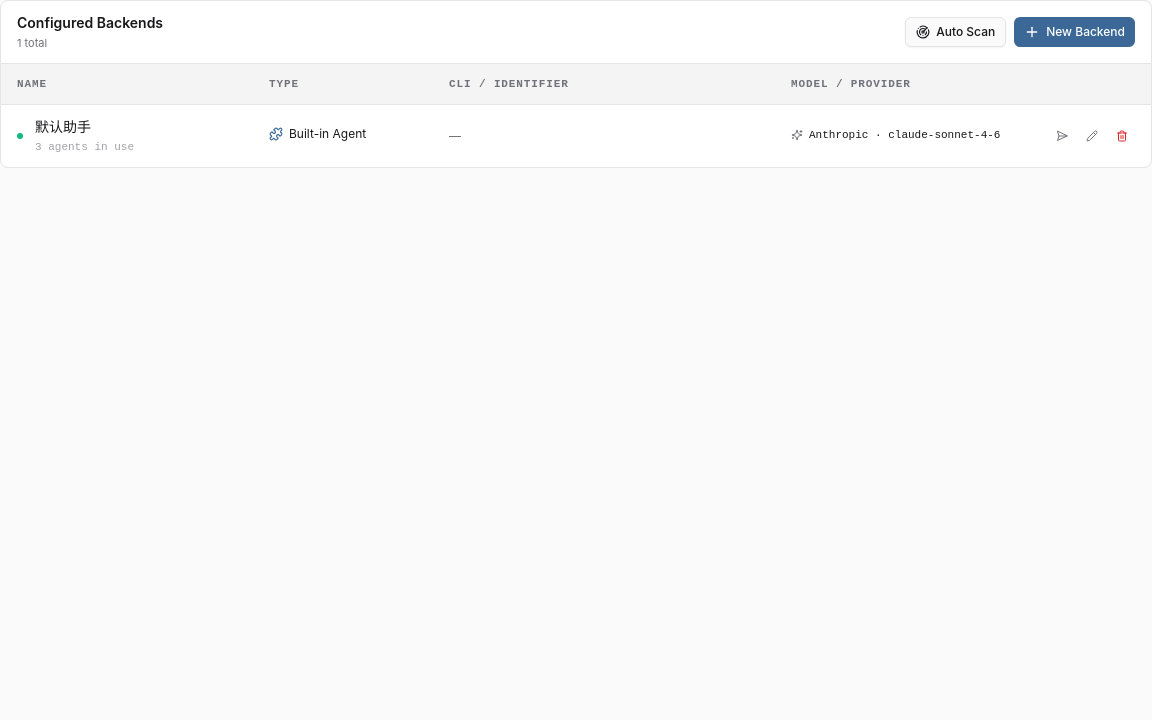
AgentBackendsPanel › 新建保存失败时错误显示在弹窗内，而不是表格提示区
Expected: the table named "Agent backend list" is shown, [1,64,1151,166]
Click the button "New Backend".
click(1075, 32)  # box [1014,17,1135,47]
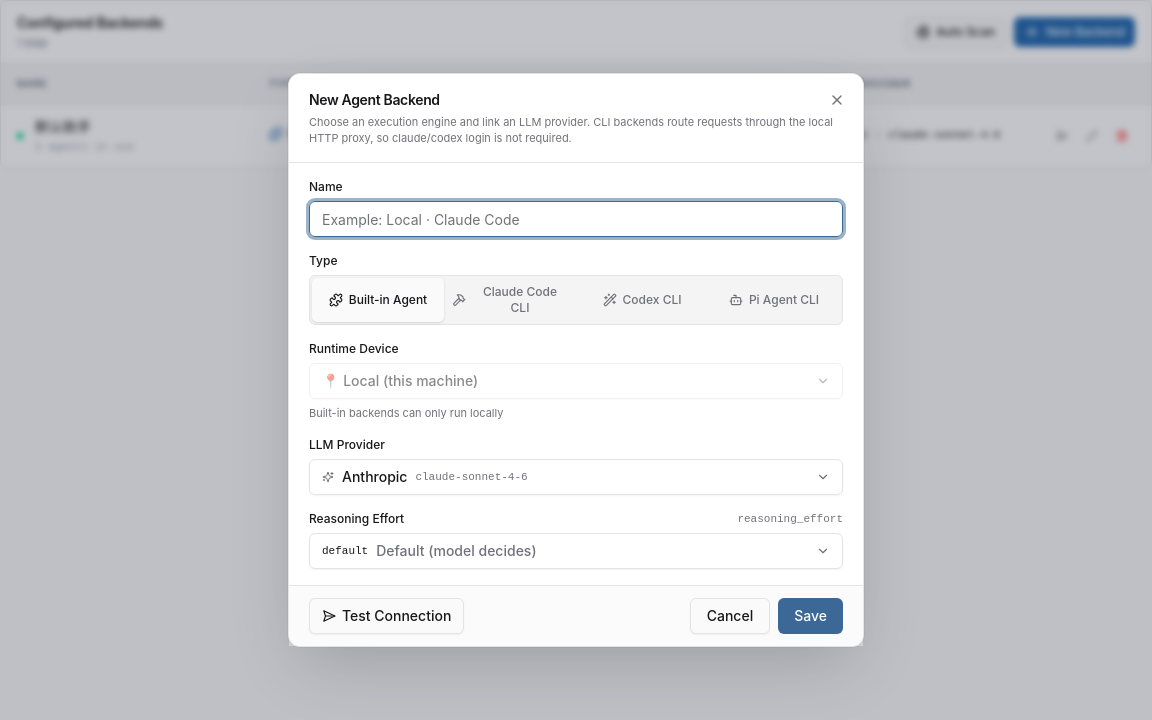
Type "Duplicate backend" into the field with placeholder "Example: Local · Claude Code".
click(576, 219); type("Duplicate backend")  # box [309,201,843,237]
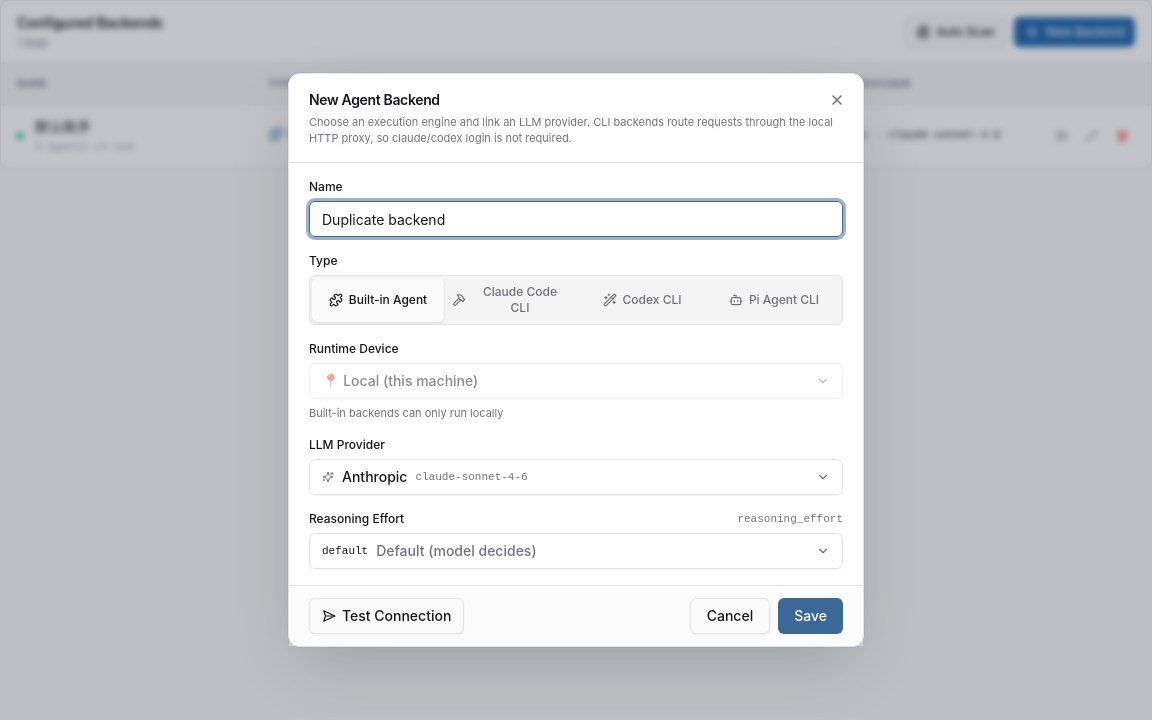
Click the button "Save".
click(811, 616)  # box [778,598,843,634]
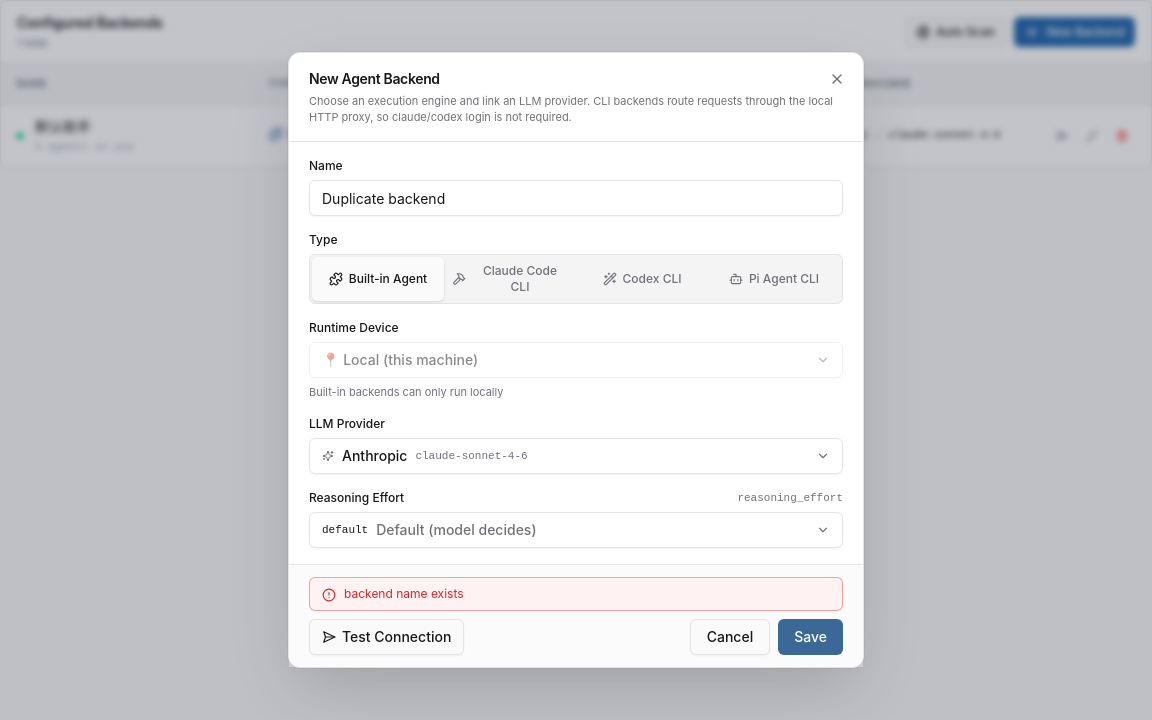
Expected: the text "backend name exists" is shown, [344,586,464,601]
